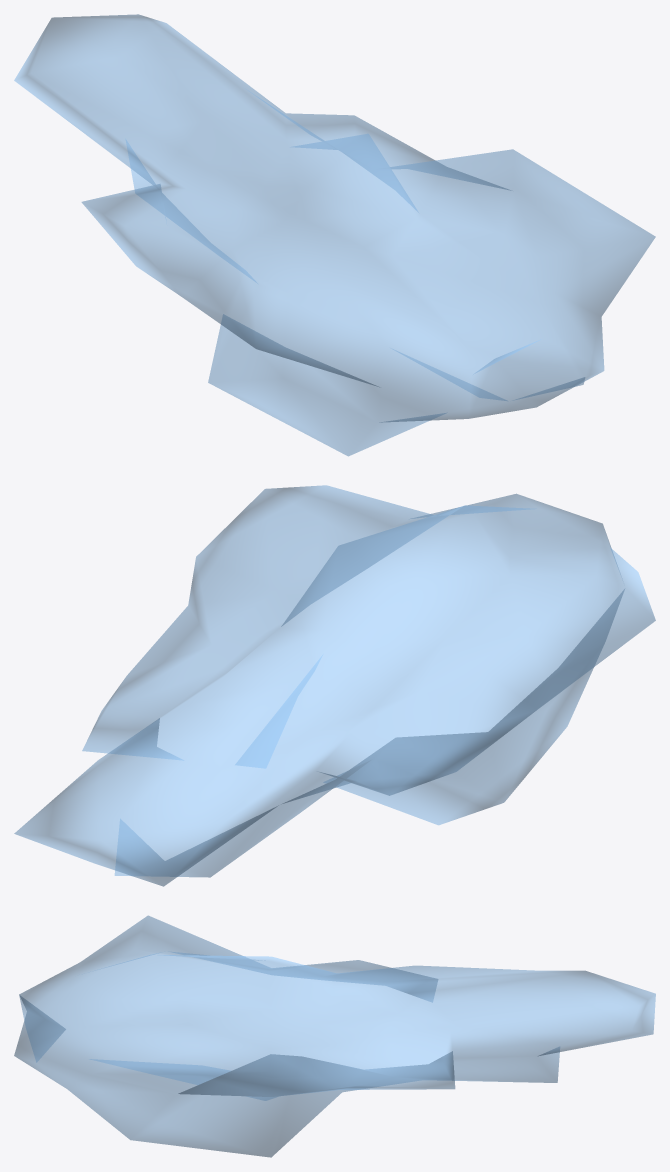
Rendered from tsteele_shield.gltf.
3 views of the same model, one above another, from view 1: azimuth 30°, elevation 25°; view 2: azimuth 150°, elevation 25°; view 3: azimuth 270°, elevation 25° (orthographic). The views are drawn at different scales.
Parts seen in each view (by area): view 1: tsteele.shield; view 2: tsteele.shield; view 3: tsteele.shield.
Boxes of the visible parts, left/top/right/bottom form: tsteele.shield: left=14, top=14, right=655, bottom=456; tsteele.shield: left=14, top=485, right=655, bottom=886; tsteele.shield: left=14, top=915, right=655, bottom=1157.
Bounding box in the file's own units: 14.35 × 8.85 × 29.18.
